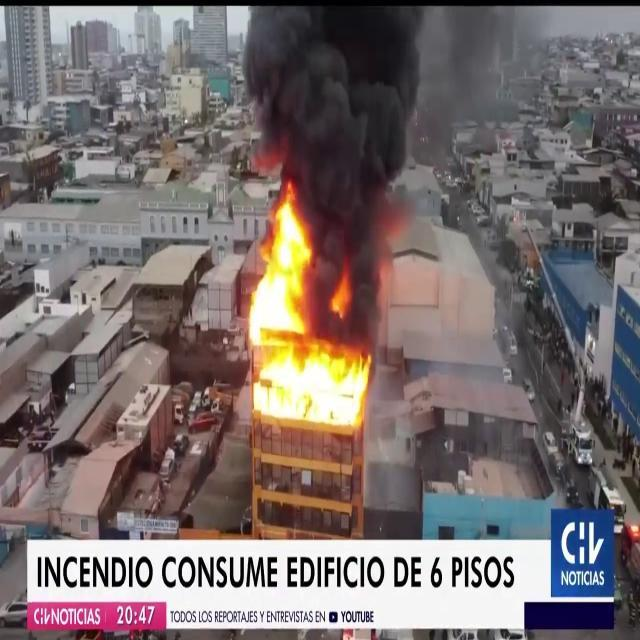Fire: (241, 184, 373, 428)
Smoke: (238, 2, 436, 294)
